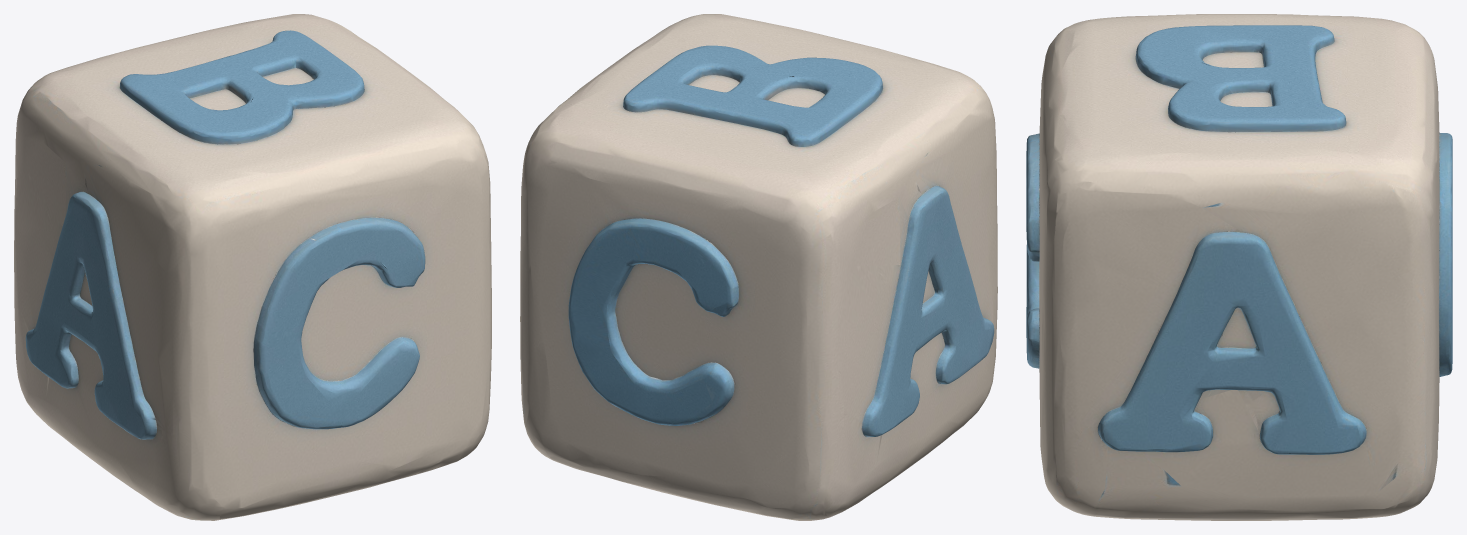
File: block_c.glb
The picture shows the model from 3 angles, left to right: view 1: azimuth 30°, elevation 25°; view 2: azimuth 150°, elevation 25°; view 3: azimuth 270°, elevation 25°; orthographic projection. The views are drawn at different scales.
Parts seen in each view (by area): view 1: block_c; view 2: block_c; view 3: block_c.
Boxes of the visible parts, left/top/right/bottom form: block_c: left=14, top=14, right=491, bottom=520; block_c: left=520, top=14, right=997, bottom=520; block_c: left=1026, top=14, right=1452, bottom=520.
Bounding box in the file's own units: 1 × 0.9815 × 0.9992.
1 material, 1 textured.
